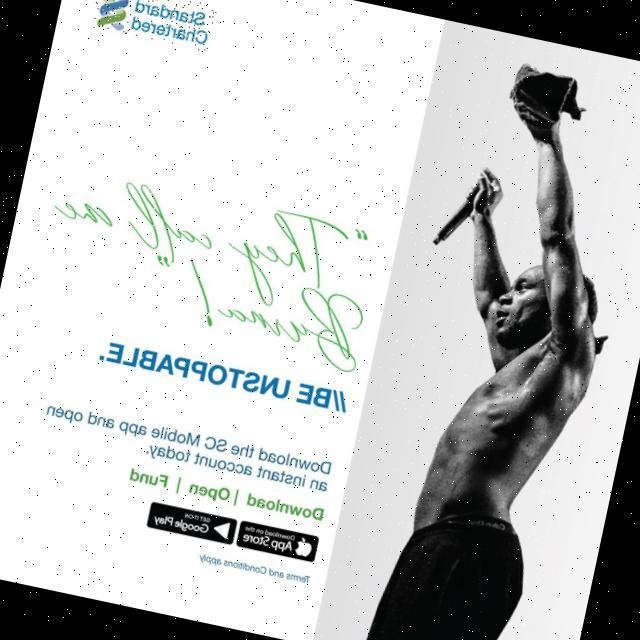Standard Chartered: (87, 0, 216, 51)
